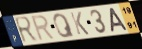3: (90, 8, 109, 35)
A: (108, 7, 129, 33)
K: (69, 11, 91, 36)
Q: (52, 12, 77, 39)
R: (13, 15, 40, 46), (31, 14, 57, 43)
